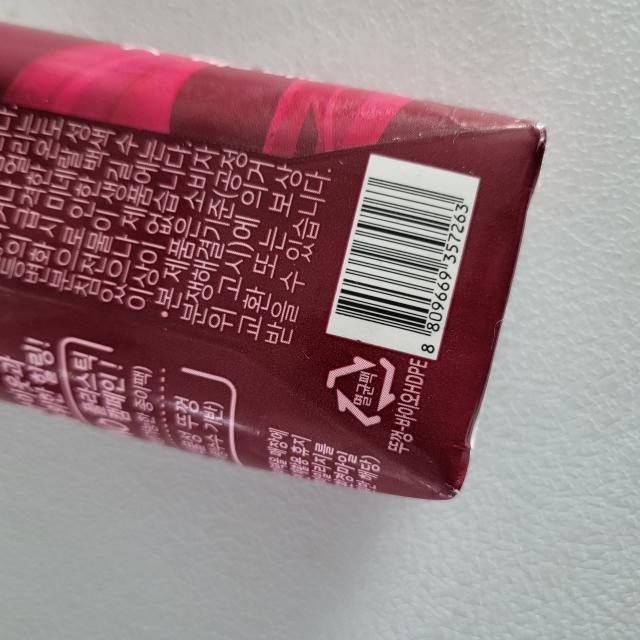SterilizedPack: (321, 351, 402, 430)
